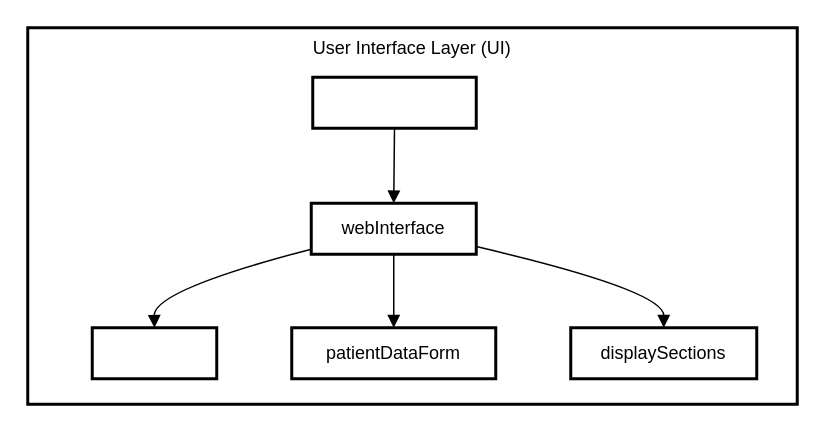
Some shapes in this 824 by 431 pixel diagram are drawn without their labels. The centre of each missing label's shape, as x and y in pixels:
"loginPage" belongs at point (154, 353).
"StreamlitApp" belongs at point (393, 102).
